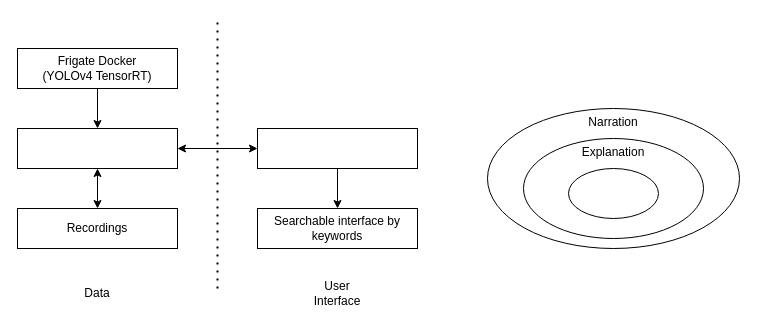
Image size: 757x325. Some labels were removed from this diagram. The shapes that lost their labels are listed below. From the top down, each one's centre as x and y in pixels, then its label:
At point (97, 148): "SQLite".
At point (337, 148): "LLaVA (https://llava-vl.github.io/)".
At point (613, 193): "Detection".
